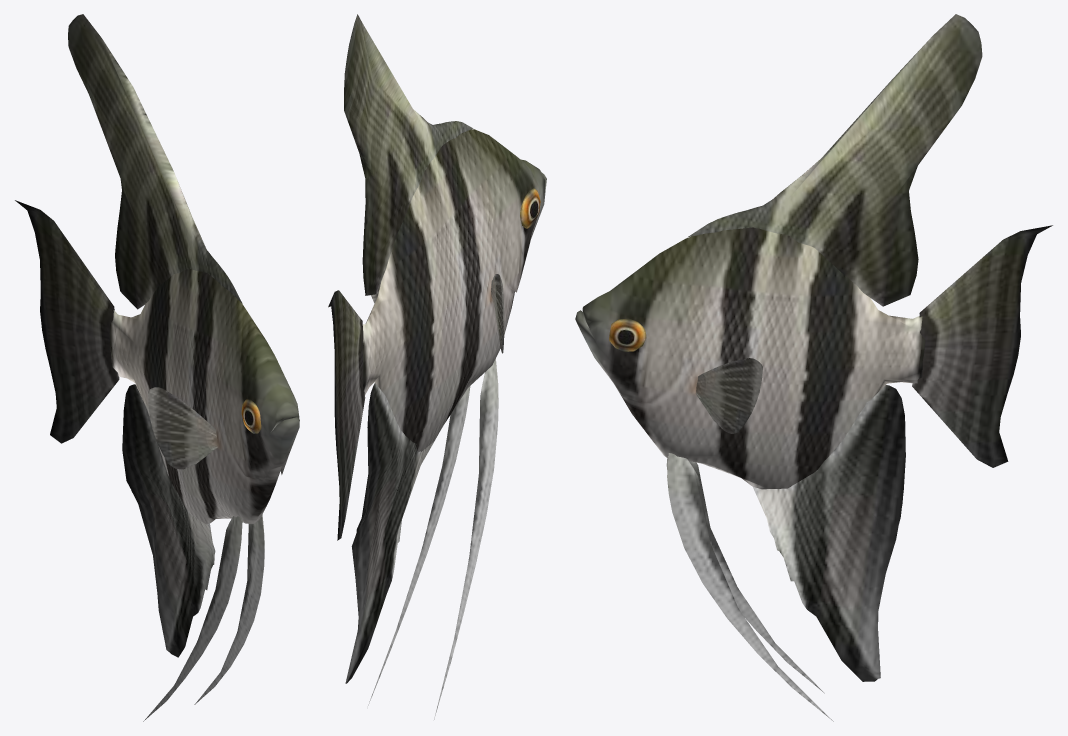
Rendered from google poly.gltf.
3 renders of one model, left to right at view 1: azimuth 30°, elevation 25°; view 2: azimuth 150°, elevation 25°; view 3: azimuth 270°, elevation 25°, orthographic. The views are drawn at different scales.
Visible parts, largest first — view 1: node-0; view 2: node-0; view 3: node-0.
Boxes of the visible parts, left/top/right/bottom form: node-0: left=15, top=14, right=299, bottom=721; node-0: left=328, top=14, right=546, bottom=719; node-0: left=575, top=14, right=1052, bottom=721.
Bounding box in the file's own units: 12.09 × 64.57 × 41.07.
1 material, 1 textured.
